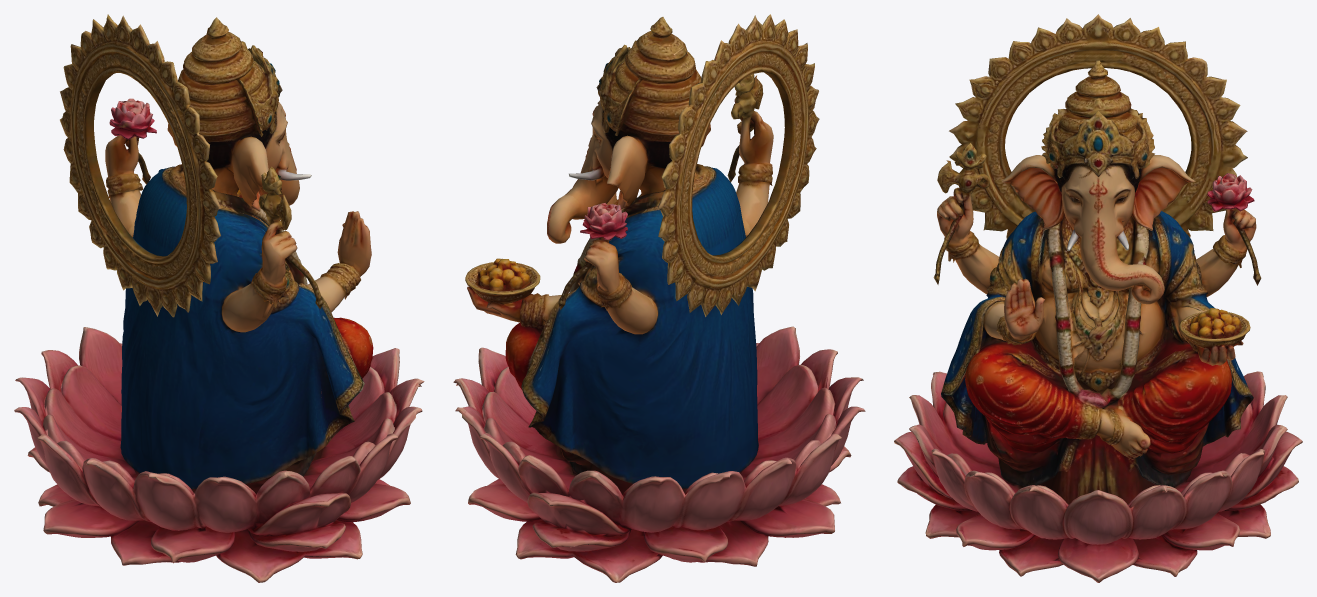
The model's file is ganesha_3d.glb.
3 renders of one model, left to right at view 1: azimuth 30°, elevation 25°; view 2: azimuth 150°, elevation 25°; view 3: azimuth 270°, elevation 25°, orthographic. The views are drawn at different scales.
Visible parts, largest first — view 1: Object_4; view 2: Object_4; view 3: Object_4.
Boxes of the visible parts, x1,y1,x2,y2 form: Object_4: (14, 14, 424, 582); Object_4: (453, 14, 865, 582); Object_4: (894, 14, 1302, 582).
Size of the model in its own units: 0.7554 by 1 by 0.7914.
1 material, 1 textured.
